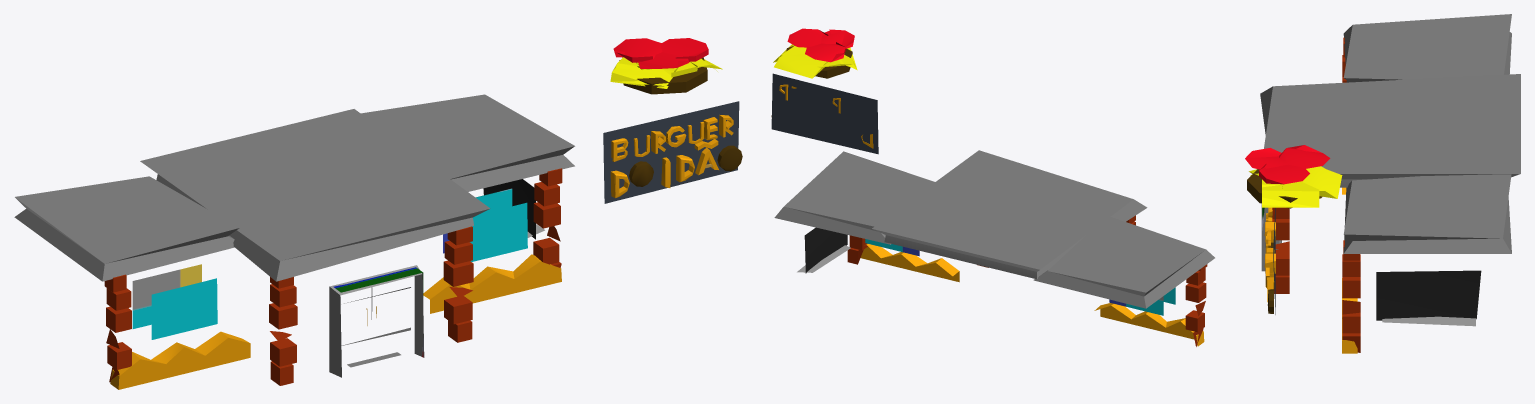
The model's file is BurguerDoidaoLOD1.fbx.
The picture shows the model from 3 angles, left to right: view 1: azimuth 30°, elevation 25°; view 2: azimuth 150°, elevation 25°; view 3: azimuth 270°, elevation 25°; orthographic projection. The views are drawn at different scales.
Parts seen in each view (by area): view 1: BurguerLOD1, BurgaoLOD1, LetreiroLOD1; view 2: BurguerLOD1, BurgaoLOD1; view 3: BurguerLOD1, BurgaoLOD1, LetreiroLOD1.
Part boxes in pixels (x1,y1,x2,y2): BurguerLOD1: (14, 94, 739, 389); BurgaoLOD1: (610, 38, 722, 94); LetreiroLOD1: (610, 115, 742, 197); BurguerLOD1: (771, 73, 1214, 346); BurgaoLOD1: (773, 28, 857, 78); BurguerLOD1: (1260, 14, 1520, 353); BurgaoLOD1: (1245, 145, 1342, 208); LetreiroLOD1: (1264, 207, 1275, 313).
Bounding box in the file's own units: 1906 × 797 × 795.
